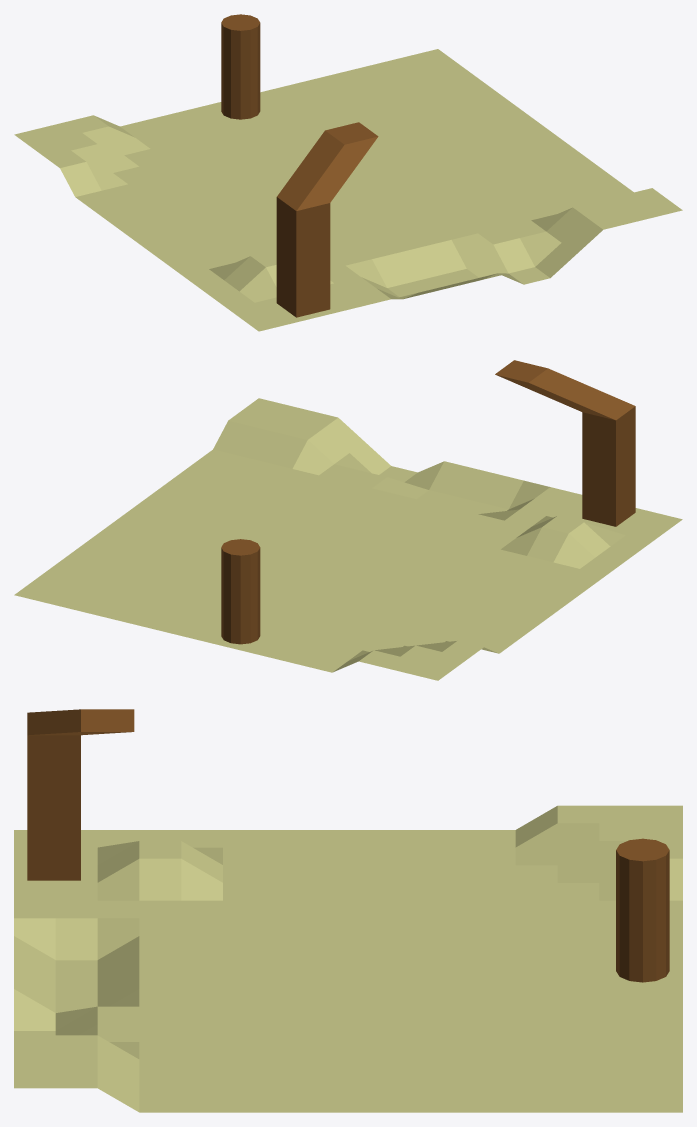
The model's file is combat_test1.fbx.
3 views of the same model, one above another, from view 1: azimuth 30°, elevation 25°; view 2: azimuth 150°, elevation 25°; view 3: azimuth 270°, elevation 25° (orthographic). The views are drawn at different scales.
Visible parts, largest first — view 1: Plane, Cube; view 2: Plane, Cube; view 3: Plane, Cube.
Boxes of the visible parts, x1,y1,x2,y2 form: Plane: (14,49,682,331); Cube: (221,14,378,317); Plane: (14,398,682,680); Cube: (221,360,635,644); Plane: (14,805,682,1112); Cube: (27,709,669,982).
Size of the model in its own units: 2500 by 900 by 2500.
